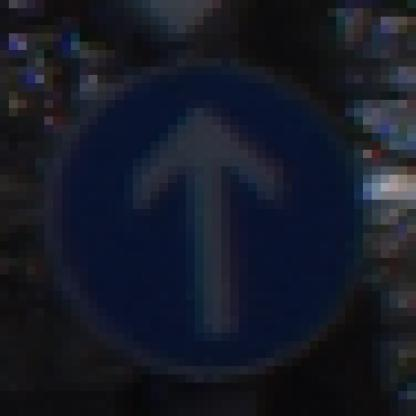AheadOnly: (45, 43, 373, 376)
